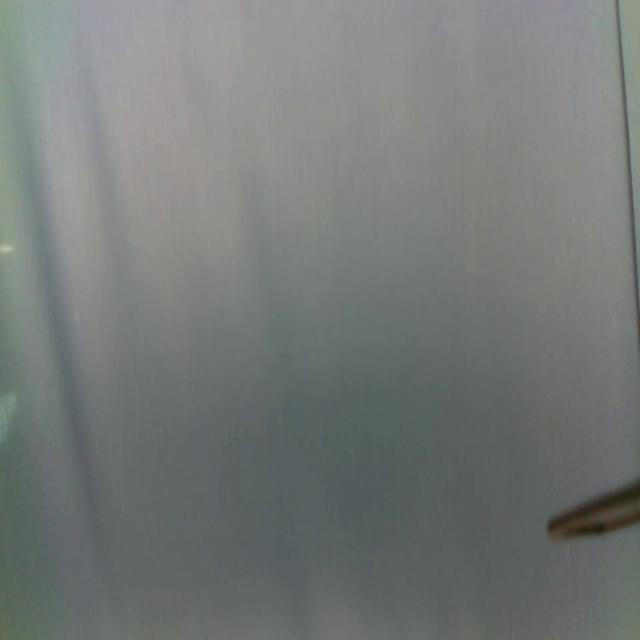crease: (615, 0, 640, 324)
